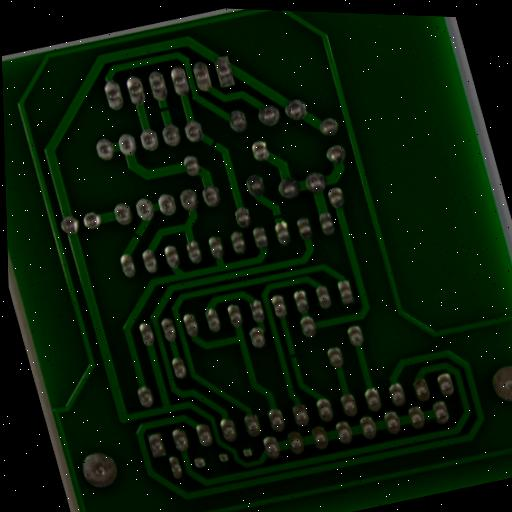open_circuit: (205, 136, 223, 155), (268, 208, 287, 225), (130, 227, 146, 244), (154, 103, 171, 116), (286, 350, 298, 363)
